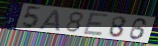5: (20, 5, 44, 30)
6: (128, 18, 149, 41)
8: (64, 11, 85, 34), (108, 15, 128, 38)
A: (38, 9, 61, 32)
E: (82, 12, 110, 37)
